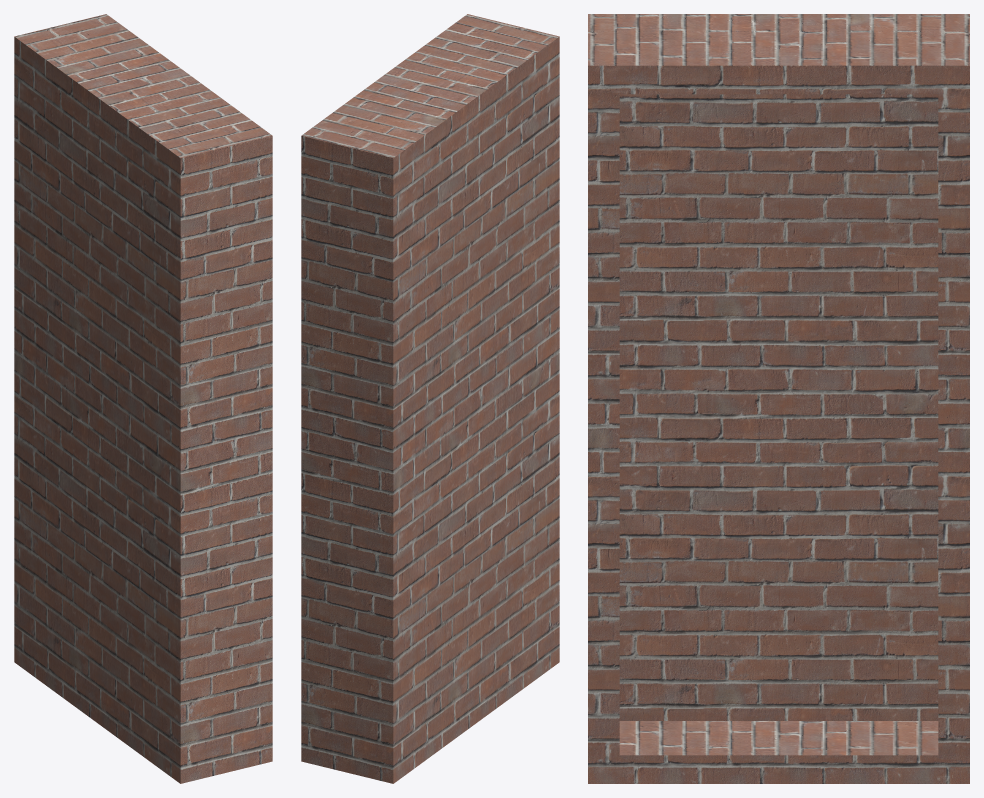
File: dead_end.fbx
3 views of the same model, side by side, from view 1: azimuth 30°, elevation 25°; view 2: azimuth 150°, elevation 25°; view 3: azimuth 270°, elevation 25° (orthographic). The views are drawn at different scales.
Visible parts, largest first — view 1: dead_end; view 2: dead_end; view 3: dead_end.
Part boxes in pixels (x1,y1,x2,y2): dead_end: (14,14,272,783); dead_end: (301,14,559,783); dead_end: (588,14,969,783).
Size of the model in its own units: 28.81 by 187 by 90.
Materials: 1 (1 with a texture image).
